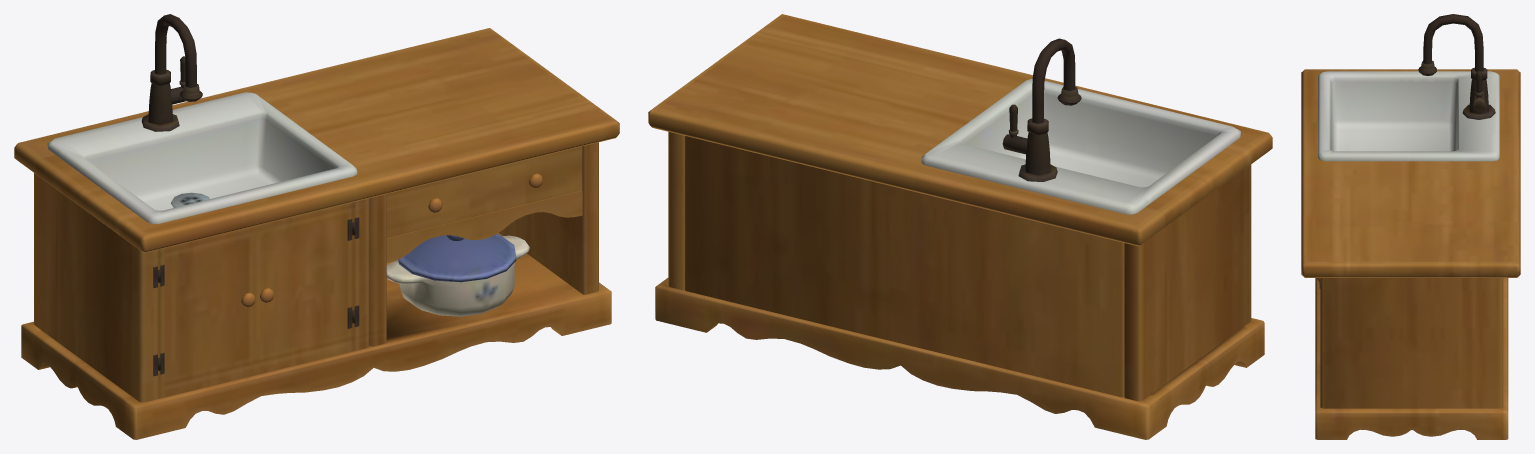
3 views of the same model, side by side, from view 1: azimuth 30°, elevation 25°; view 2: azimuth 150°, elevation 25°; view 3: azimuth 270°, elevation 25° (orthographic). The views are drawn at different scales.
Bounding box in the file's own units: 18 × 11.91 × 8.47.
1 material, 1 textured.
